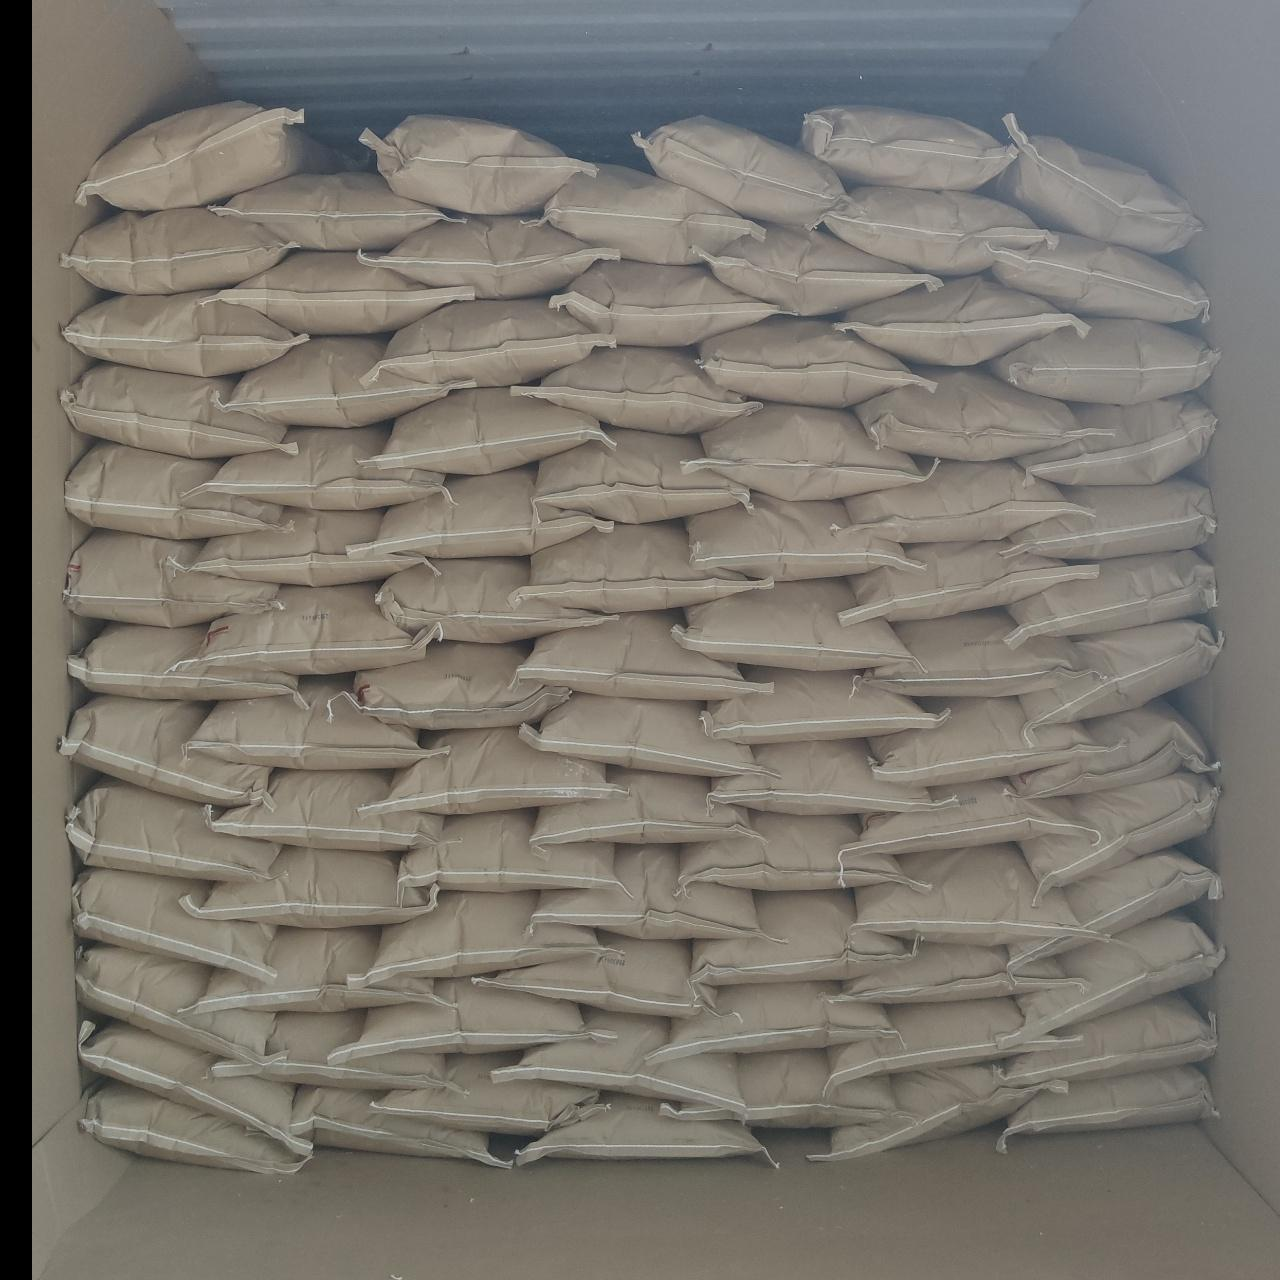sack: (996, 910, 1224, 1052), (78, 1019, 310, 1155), (985, 114, 1201, 255), (76, 101, 346, 211), (492, 1009, 746, 1119), (347, 891, 621, 989), (1019, 772, 1219, 906), (1006, 848, 1220, 973), (850, 844, 1109, 946), (825, 998, 1085, 1098), (329, 977, 618, 1064), (177, 927, 453, 1018), (682, 404, 938, 501), (77, 944, 282, 1065), (509, 520, 771, 614), (854, 366, 1113, 461), (807, 1066, 1068, 1160), (347, 468, 612, 560), (1015, 620, 1223, 736), (59, 695, 273, 807), (182, 582, 439, 675), (632, 116, 845, 228), (358, 728, 624, 817), (196, 250, 474, 335), (215, 337, 477, 427), (186, 680, 448, 769), (361, 115, 596, 214), (207, 1010, 468, 1099), (511, 611, 772, 700), (529, 845, 775, 939), (358, 386, 616, 475), (72, 868, 276, 979), (60, 363, 298, 458), (397, 809, 627, 907), (519, 693, 780, 779), (836, 277, 1087, 366), (362, 299, 615, 387), (184, 426, 449, 510), (839, 540, 1097, 626), (671, 579, 913, 670), (511, 346, 761, 434), (831, 459, 1092, 543), (64, 442, 292, 538), (543, 165, 764, 264), (701, 225, 941, 315), (66, 781, 279, 881), (471, 931, 718, 1017), (180, 846, 438, 928), (375, 557, 621, 643), (698, 318, 933, 408), (692, 891, 917, 985), (822, 186, 1058, 275), (62, 292, 309, 377), (359, 217, 618, 298), (999, 991, 1216, 1087), (63, 530, 279, 626), (79, 1081, 304, 1173), (165, 510, 437, 586), (679, 811, 931, 893), (62, 207, 299, 294), (209, 172, 473, 250), (67, 625, 309, 710), (982, 318, 1218, 405), (1007, 699, 1213, 798), (686, 494, 923, 580), (646, 981, 891, 1064), (660, 1047, 911, 1128), (1006, 551, 1217, 647), (535, 430, 752, 523), (986, 233, 1208, 323), (869, 698, 1094, 786), (372, 1052, 610, 1135), (552, 259, 778, 346), (996, 1065, 1218, 1153), (347, 642, 570, 729), (701, 667, 950, 744), (865, 609, 1085, 696), (206, 770, 442, 851), (707, 738, 951, 815), (531, 772, 769, 849), (290, 1085, 512, 1167), (801, 106, 1017, 190), (1018, 392, 1215, 484), (858, 779, 1098, 854), (516, 1097, 777, 1165), (1002, 479, 1215, 560), (827, 940, 1077, 1005)
